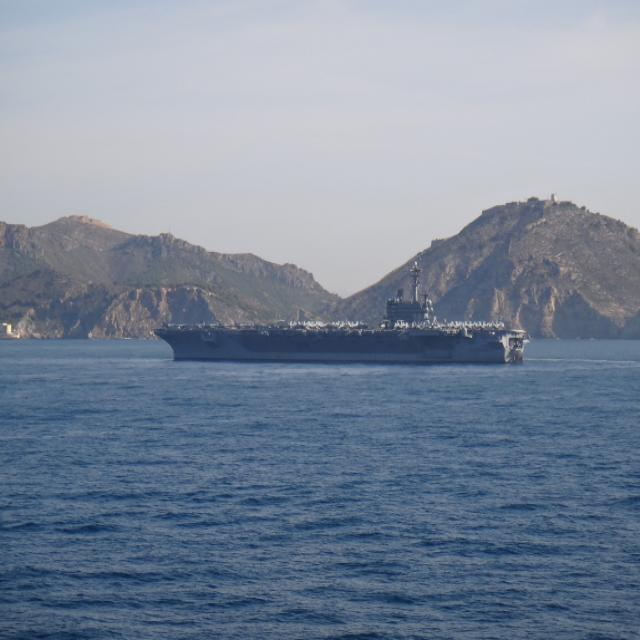Portanaves: (152, 259, 533, 367)
